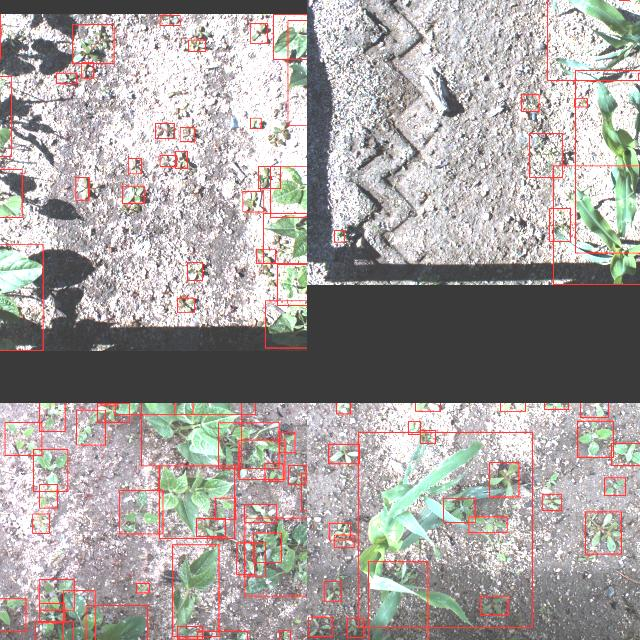crop: (358, 431, 532, 627), (575, 69, 640, 252), (553, 165, 640, 284), (547, 0, 640, 80), (140, 403, 241, 465), (159, 464, 235, 538), (368, 561, 428, 640), (0, 243, 43, 350), (173, 544, 219, 636), (264, 213, 307, 263), (288, 19, 307, 125), (265, 300, 307, 347), (270, 165, 307, 216), (273, 13, 307, 58), (276, 263, 307, 304), (0, 169, 22, 217)
weed: (244, 517, 307, 595), (219, 422, 279, 468), (86, 605, 148, 640), (120, 489, 162, 533), (239, 439, 285, 479), (72, 23, 114, 63), (63, 590, 95, 640), (585, 511, 621, 553), (529, 133, 563, 177), (34, 449, 68, 491), (577, 420, 613, 456), (4, 422, 42, 454), (38, 578, 74, 610), (489, 462, 519, 496), (76, 410, 105, 444), (0, 598, 26, 631), (253, 532, 281, 562), (443, 498, 475, 522), (244, 542, 266, 576), (35, 621, 73, 640), (39, 403, 64, 431), (550, 208, 570, 242), (611, 442, 640, 465), (328, 443, 359, 463), (244, 503, 276, 522), (469, 516, 507, 532), (98, 403, 130, 421), (236, 542, 254, 574), (197, 518, 226, 536), (480, 596, 508, 614), (258, 166, 280, 188), (40, 603, 64, 623), (308, 617, 332, 637), (198, 631, 248, 640), (242, 191, 264, 211), (214, 498, 236, 518), (39, 484, 57, 508), (579, 403, 608, 417), (604, 477, 626, 495), (122, 185, 144, 202), (250, 22, 268, 42), (288, 464, 306, 484), (324, 581, 342, 601), (346, 618, 364, 638), (330, 522, 350, 540), (32, 513, 49, 533), (542, 494, 562, 511), (265, 463, 283, 481), (75, 177, 88, 200), (156, 122, 174, 138), (178, 626, 202, 638), (256, 249, 276, 263), (280, 432, 294, 452), (334, 534, 354, 548), (522, 94, 538, 110), (188, 262, 202, 280), (178, 298, 195, 312), (128, 157, 142, 173), (175, 150, 187, 168), (188, 39, 206, 51), (160, 154, 177, 166), (56, 72, 76, 82), (160, 14, 180, 24), (180, 127, 194, 141), (420, 430, 436, 442), (415, 403, 440, 410), (500, 403, 525, 410), (82, 62, 94, 76), (408, 421, 420, 434), (136, 583, 150, 593), (336, 403, 350, 413), (251, 116, 261, 128), (334, 230, 344, 242), (545, 403, 569, 408), (574, 98, 588, 106), (279, 630, 290, 640), (638, 72, 640, 80)
